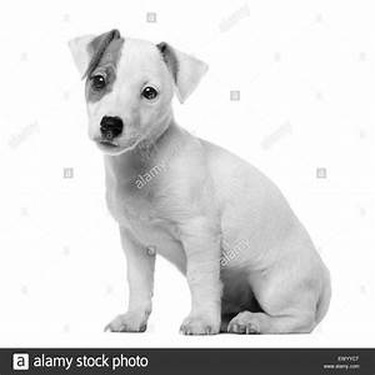dog: (52, 13, 335, 340)
